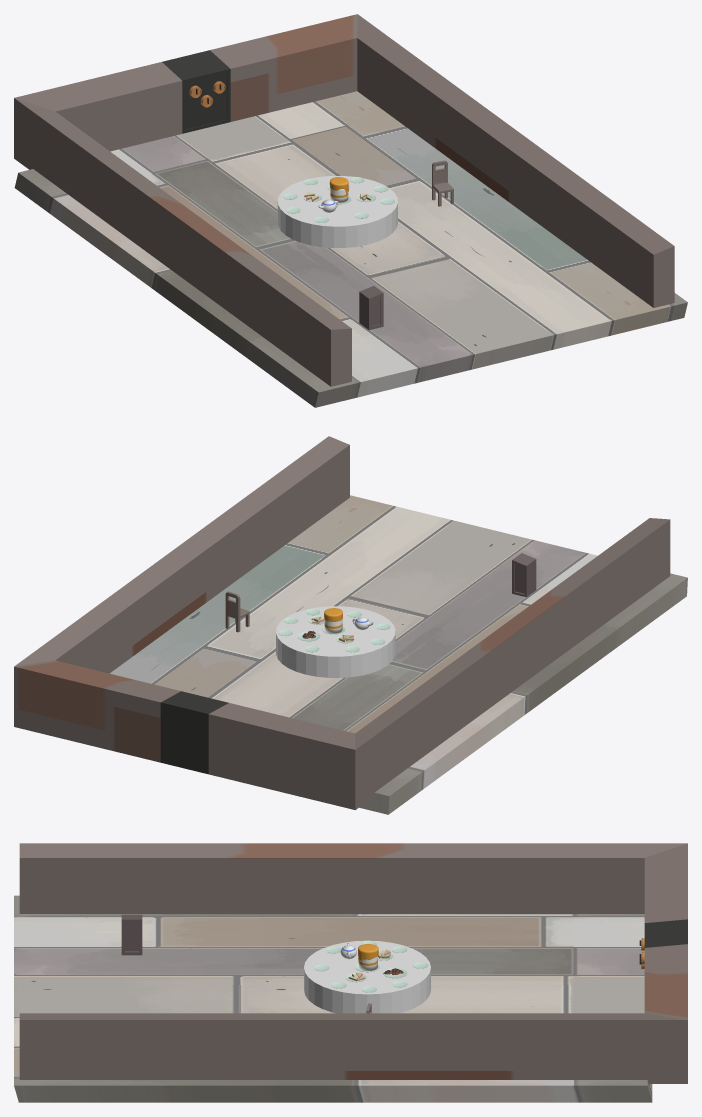
Rendered from teaparty.fbx.
3 views of the same model, one above another, from view 1: azimuth 30°, elevation 25°; view 2: azimuth 150°, elevation 25°; view 3: azimuth 270°, elevation 25° (orthographic). The views are drawn at different scales.
Visible parts, largest first — view 1: Plane, wall.001, wall, wall.002, wall.003, Table, walls, Podium, Chair; view 2: Plane, wall.001, wall, wall.003, wall.002, Table, walls, Podium, Chair; view 3: Plane, wall, wall.001, Table, wall.002, wall.003, walls, Podium, Cake.
Part boxes in pixels (<box>): Plane: <box>14,91,687,407</box>; wall.001: <box>14,98,351,386</box>; wall: <box>357,14,674,307</box>; wall.002: <box>210,14,357,121</box>; wall.003: <box>14,62,182,151</box>; Table: <box>277,175,397,247</box>; walls: <box>162,50,230,133</box>; Podium: <box>359,286,383,330</box>; Chair: <box>432,160,453,206</box>; Plane: <box>110,495,687,814</box>; wall.001: <box>355,518,670,809</box>; wall: <box>14,436,349,673</box>; wall.003: <box>208,703,355,809</box>; wall.002: <box>14,660,180,762</box>; Table: <box>276,606,395,677</box>; walls: <box>160,691,228,774</box>; Podium: <box>512,553,536,597</box>; Chair: <box>225,591,249,632</box>; Plane: <box>14,895,652,1102</box>; wall: <box>19,1013,687,1083</box>; wall.001: <box>19,843,686,913</box>; Table: <box>304,940,430,1013</box>; wall.002: <box>644,944,687,1019</box>; wall.003: <box>644,843,687,922</box>; walls: <box>644,919,687,947</box>; Podium: <box>121,914,142,955</box>; Cake: <box>358,944,378,970</box>.
Size of what is drawn, in the model's own units: 1456 by 277 by 2175.
